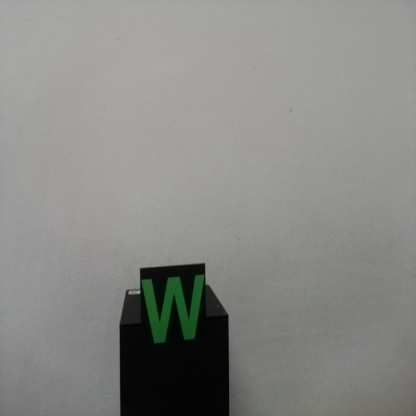id_12: (139, 266, 208, 354)
